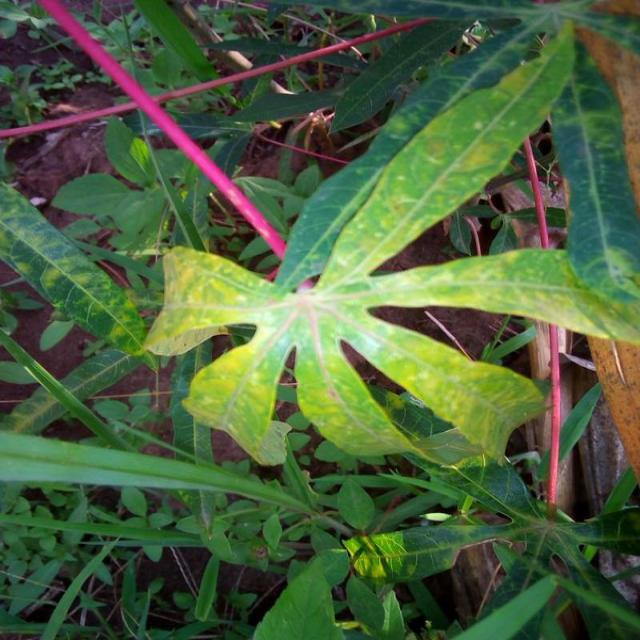cassava leaf: (142, 12, 639, 470)
